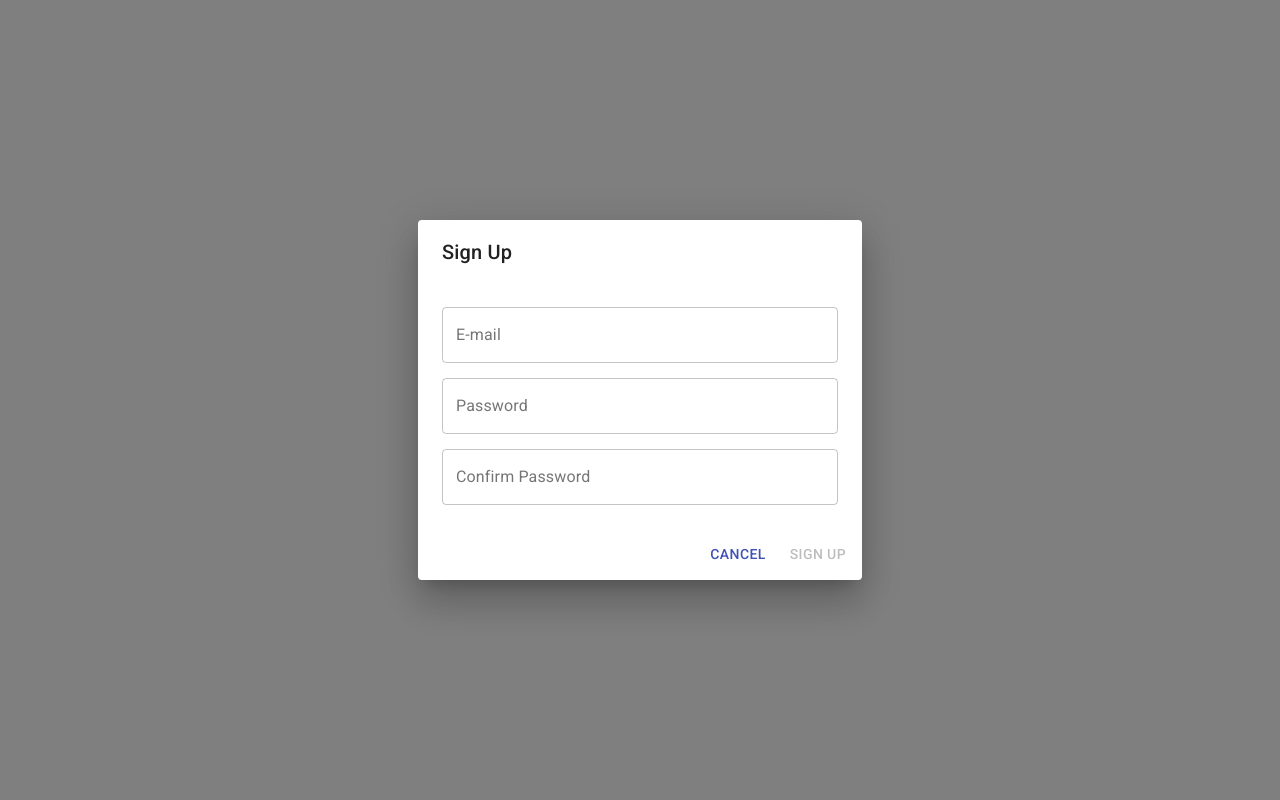
Test: SignupForm › sign up fails and displays error message- passwords don't match
In the field with test id "signup-email-input": (640, 335) [442,307,838,363], type "someTestEmail@test.com"
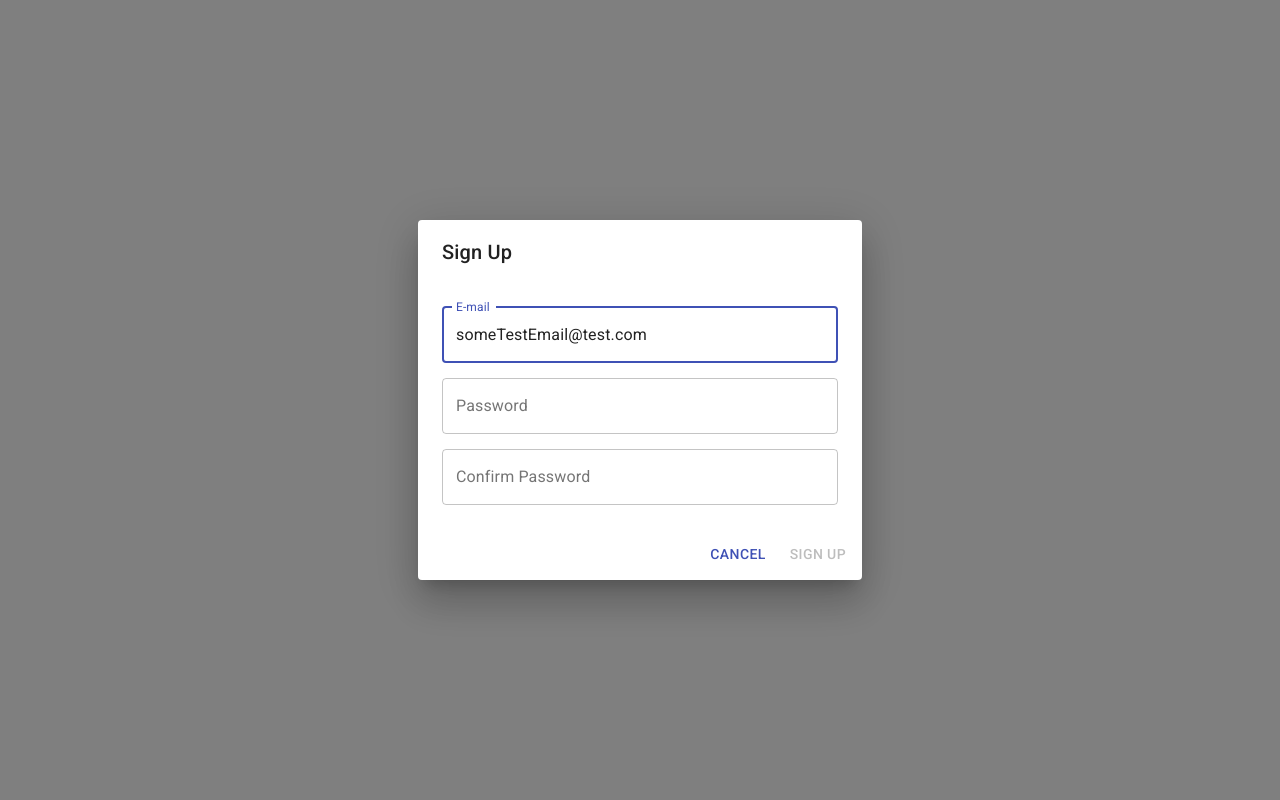
In the password field with test id "signup-password-input": (640, 406) [442,378,838,434], type "securePass123!"
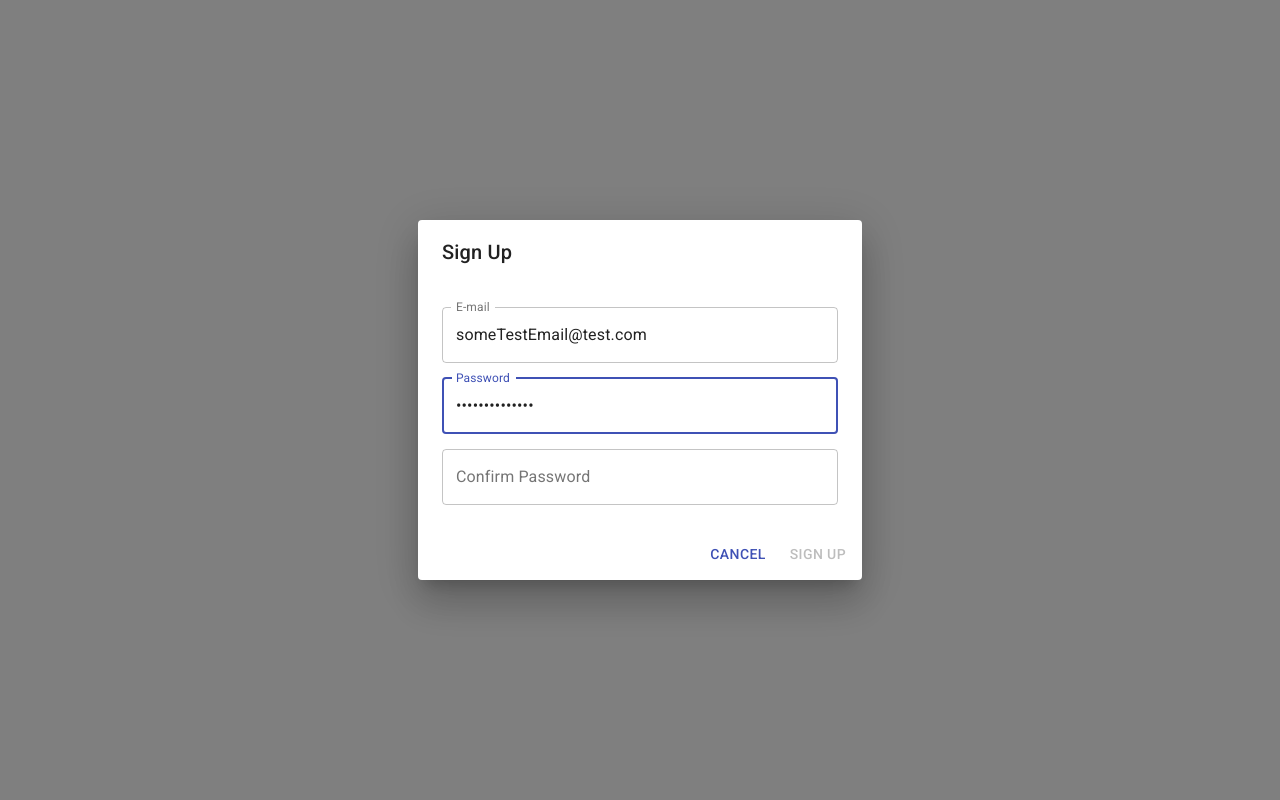
In the password field with test id "signup-confirm-password-input": (640, 477) [442,449,838,505], type "securePass1!"
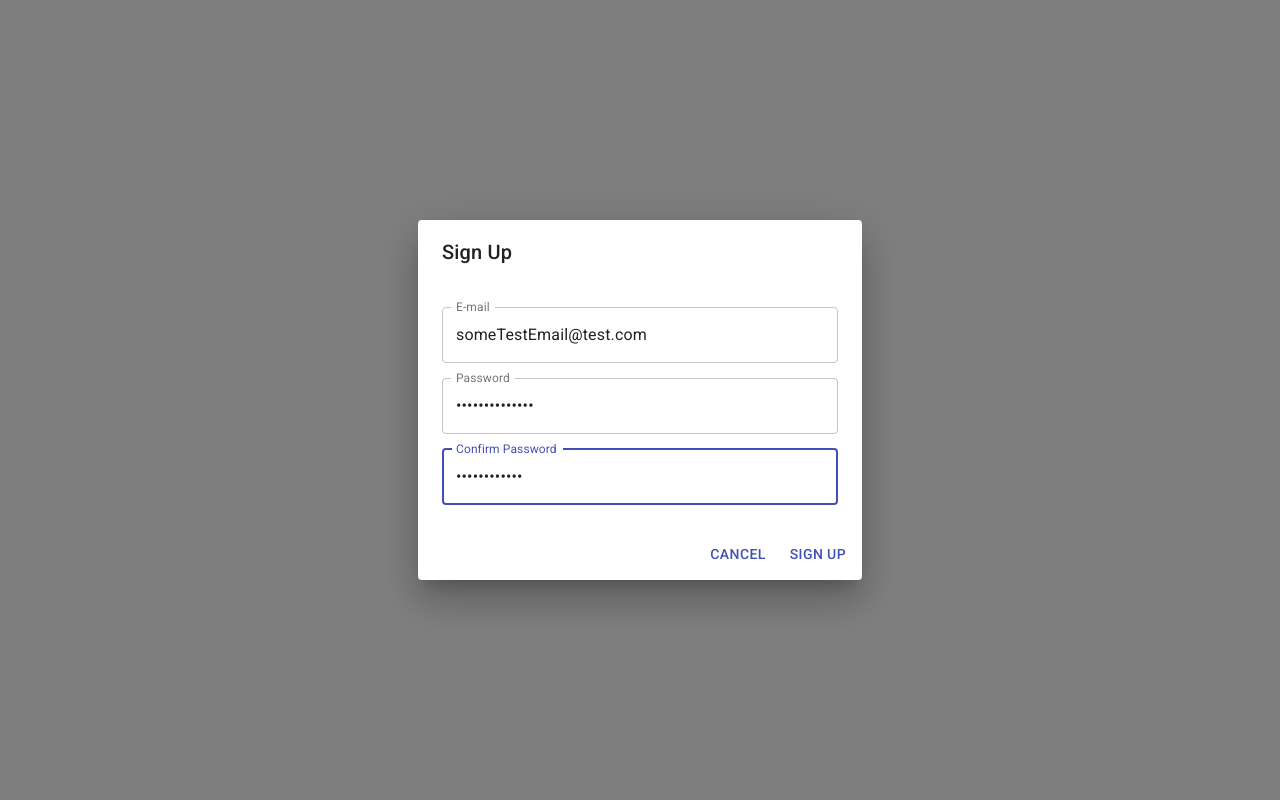
Click the button with test id "signup-dialog-button": (818, 554) [782,536,854,572]
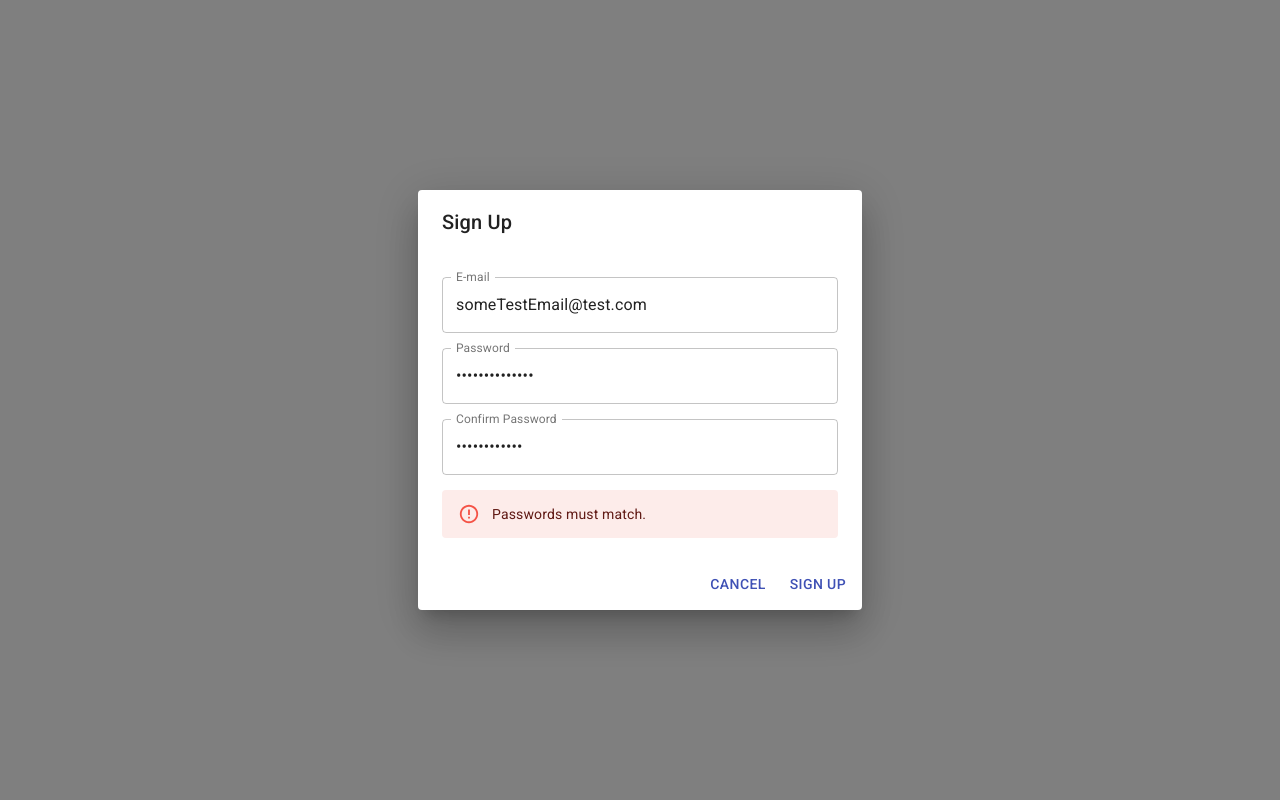
Check: the text "Passwords must match." is shown, box [492,506,646,522]
